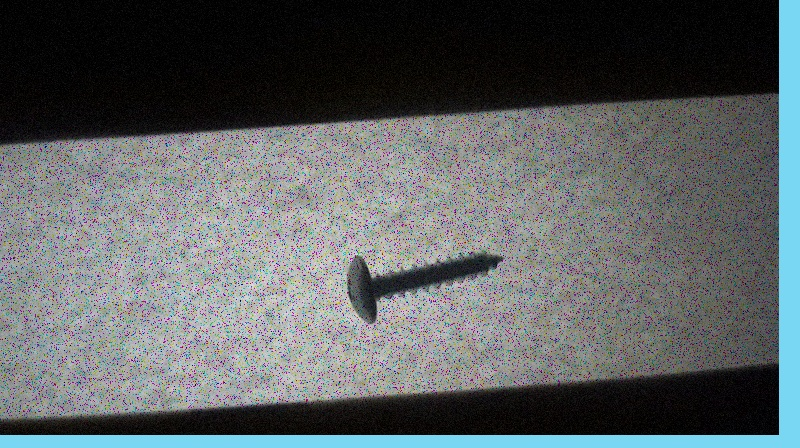S003: (343, 244, 507, 326)
